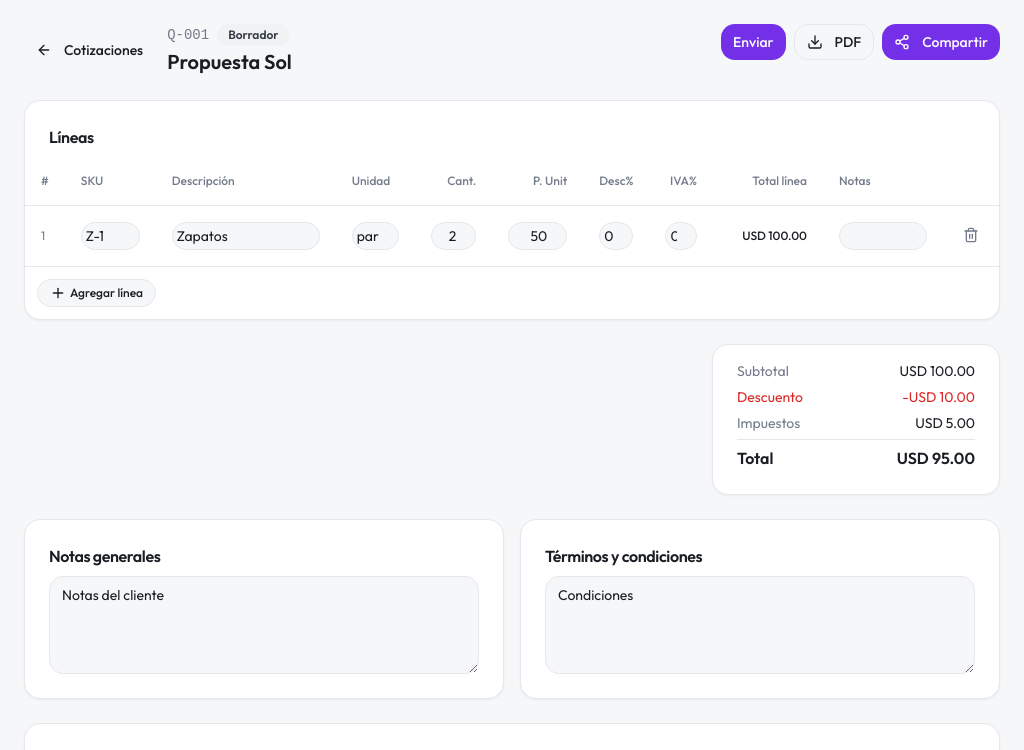
Test: QuoteDetail, in Spanish › opens the share dialog with the validity options as short day units
Click the button "Compartir" at (941, 42), box 882,24 -> 1000,60
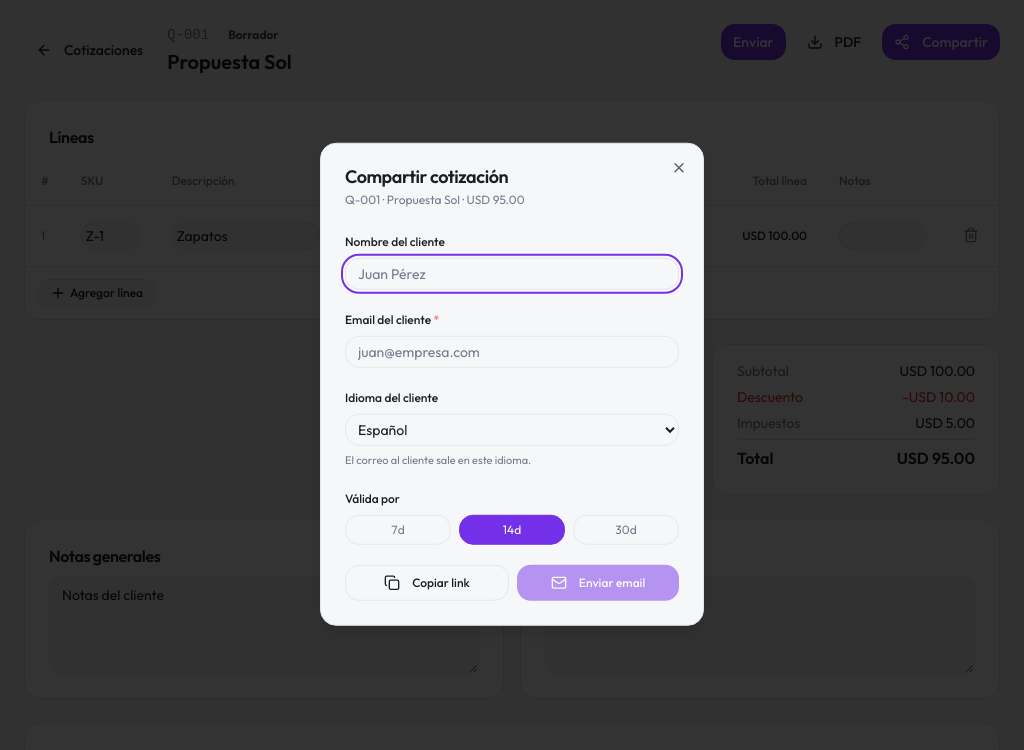
Result: the heading "Compartir cotización" is shown at 345,165 -> 508,188
Result: the text "Nombre del cliente" is shown at 345,234 -> 445,249
Result: the text "Válida por" is shown at 345,490 -> 400,505
